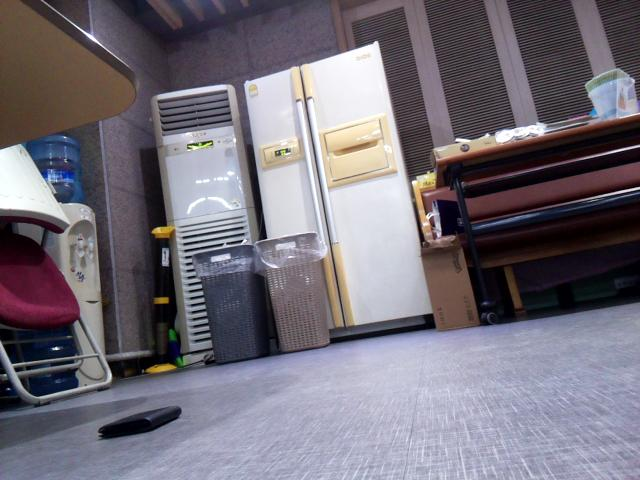wallet: (99, 403, 184, 443)
